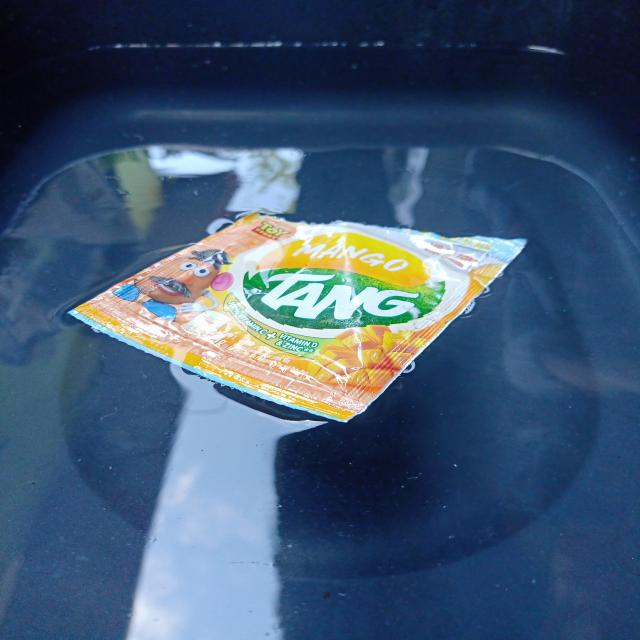Plastic Wrapper: (62, 203, 540, 438)
